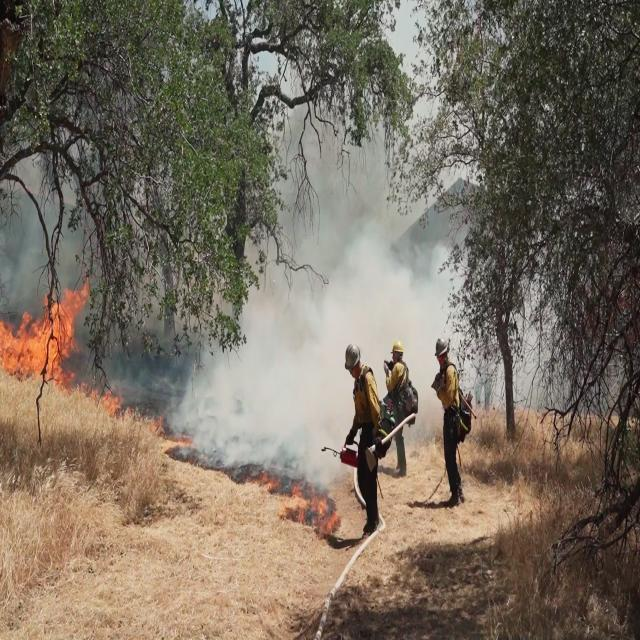Fire: (0, 283, 85, 375), (276, 476, 338, 524)
Smoke: (188, 112, 470, 474)
